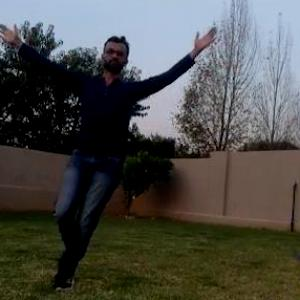takeoff: (15, 34, 221, 282)
